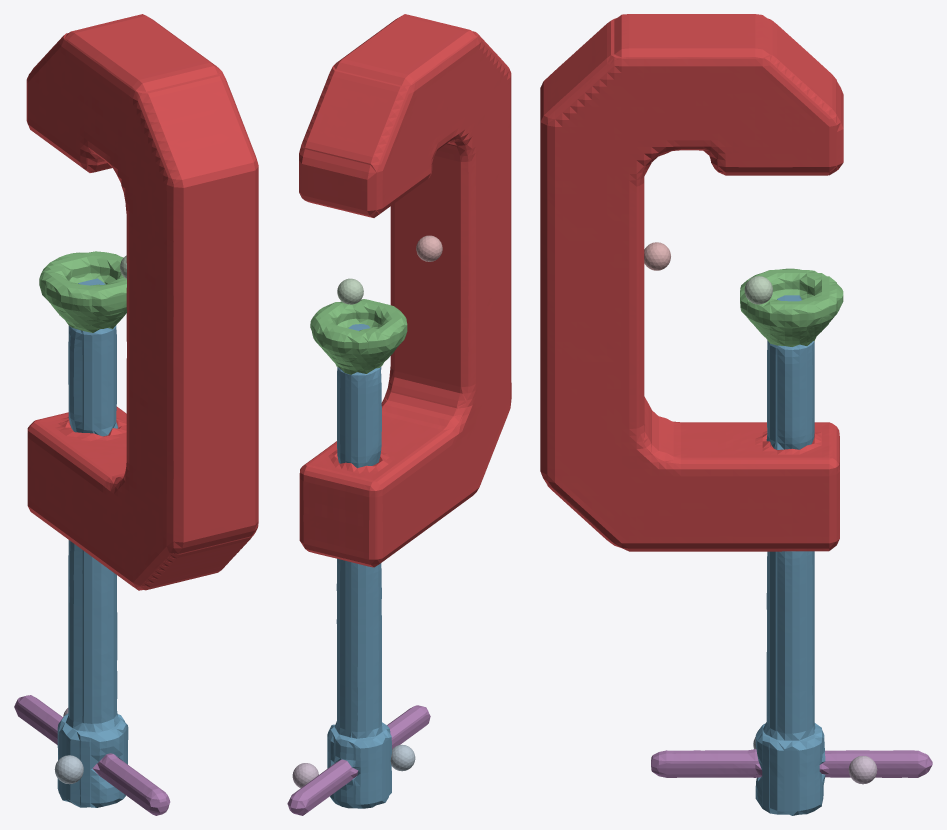
Rendered from ours.glb.
3 views of the same model, side by side, from view 1: azimuth 30°, elevation 25°; view 2: azimuth 150°, elevation 25°; view 3: azimuth 270°, elevation 25° (orthographic). The views are drawn at different scales.
Parts seen in each view (by area): view 1: g0, g1, g2, g3; view 2: g0, g1, g2, g3; view 3: g0, g1, g2, g3.
Part boxes in pixels (left/top/right/bottom): g0: left=26, top=14, right=258, bottom=590; g1: left=54, top=278, right=128, bottom=807; g2: left=39, top=251, right=126, bottom=332; g3: left=14, top=695, right=170, bottom=815; g0: left=299, top=14, right=511, bottom=567; g1: left=327, top=324, right=415, bottom=808; g2: left=310, top=278, right=407, bottom=374; g3: left=287, top=705, right=430, bottom=815; g0: left=540, top=14, right=843, bottom=551; g1: left=753, top=295, right=825, bottom=815; g2: left=740, top=268, right=843, bottom=346; g3: left=651, top=749, right=932, bottom=784.
Size of the model in its own units: 0.2364 by 1.9 by 0.8747.
